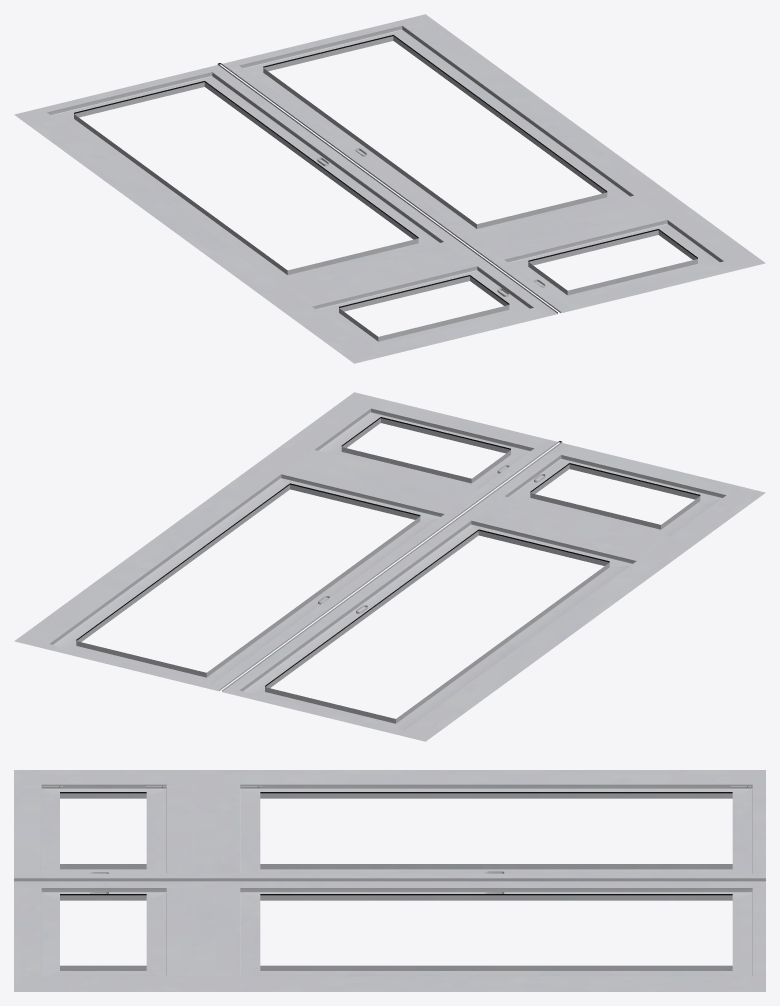
Rendered from SM_Window_03.obj.
3 views of the same model, one above another, from view 1: azimuth 30°, elevation 25°; view 2: azimuth 150°, elevation 25°; view 3: azimuth 270°, elevation 25° (orthographic). The views are drawn at different scales.
Parts seen in each view (by area): view 1: SM_Window_03; view 2: SM_Window_03; view 3: SM_Window_03.
Boxes of the visible parts, x1,y1,x2,y2 form: SM_Window_03: (14,14,765,363); SM_Window_03: (14,392,765,741); SM_Window_03: (14,770,765,991).
Bounding box in the file's own units: 2.13 × 0.0385 × 3.04.
Materials: 3 (2 with a texture image).
